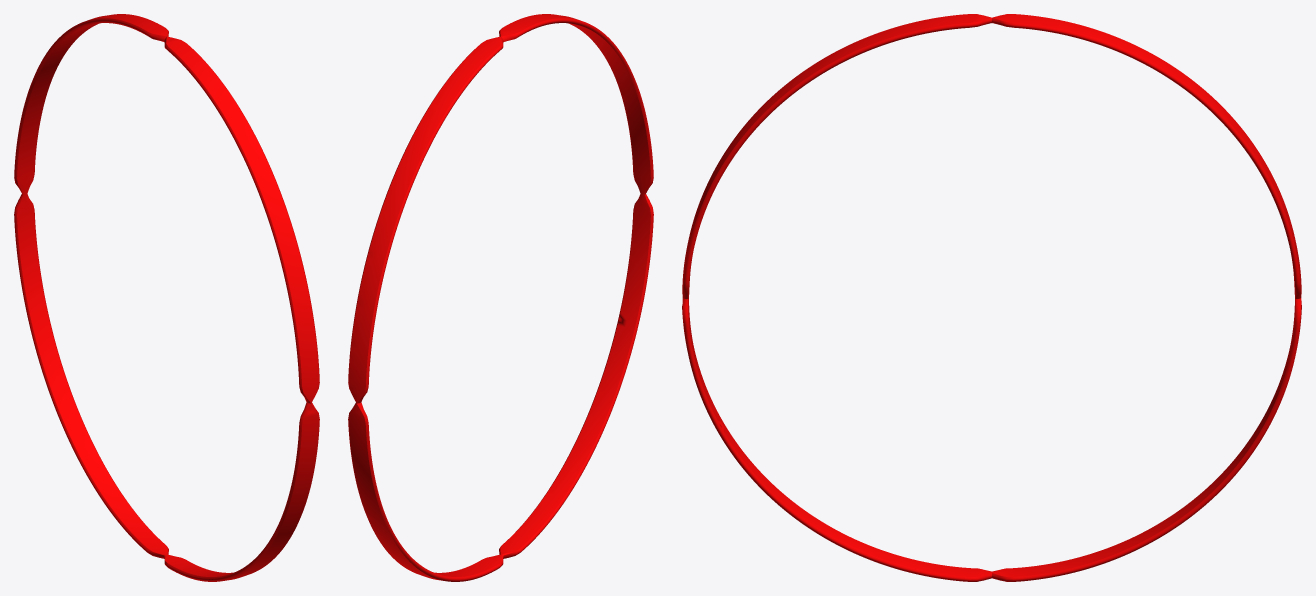
The model's file is xRotation.obj.
3 renders of one model, left to right at view 1: azimuth 30°, elevation 25°; view 2: azimuth 150°, elevation 25°; view 3: azimuth 270°, elevation 25°, orthographic. The views are drawn at different scales.
Parts seen in each view (by area): view 1: y; view 2: y; view 3: y.
Boxes of the visible parts, x1,y1,x2,y2 form: y: (14,14,319,581); y: (348,14,653,581); y: (682,14,1301,581).
Bounding box in the file's own units: 5.25 × 131 × 131.
